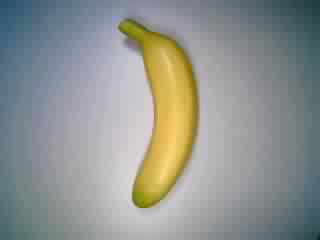banana: (109, 14, 204, 212)
